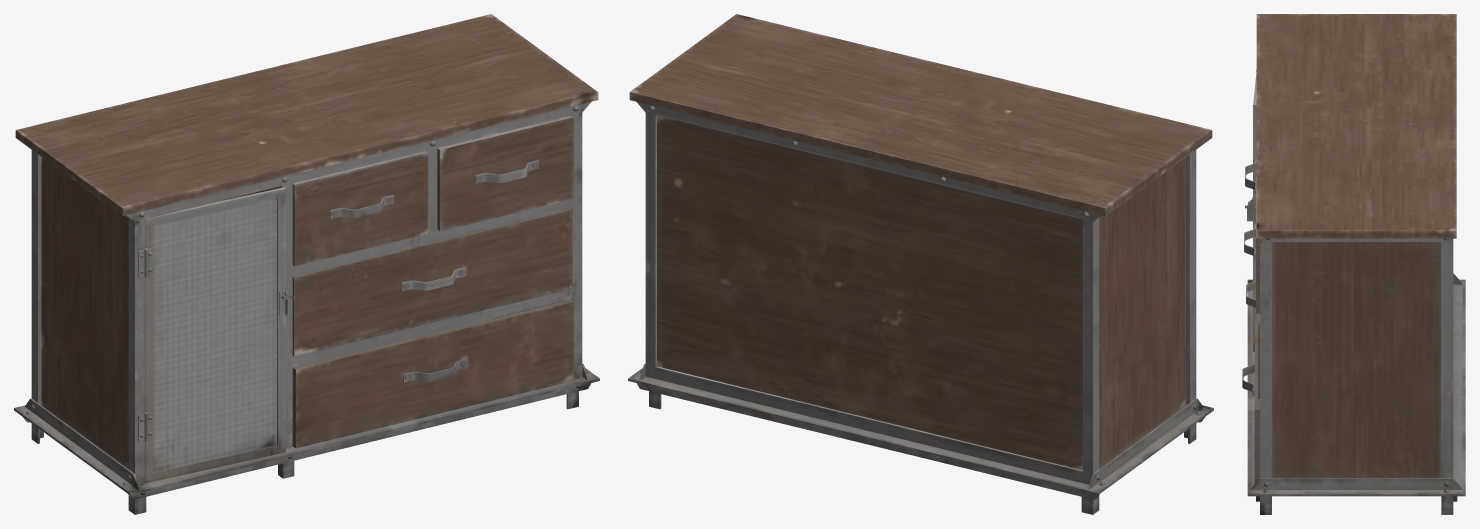
Rendered from workbench.glb.
3 views of the same model, side by side, from view 1: azimuth 30°, elevation 25°; view 2: azimuth 150°, elevation 25°; view 3: azimuth 270°, elevation 25° (orthographic). The views are drawn at different scales.
Visible parts, largest first — view 1: WoodenTable_03_body, WoodenTable_03_door, WoodenTable_03_drawer04, WoodenTable_03_drawer03, WoodenTable_03_drawer02, WoodenTable_03_drawer01; view 2: WoodenTable_03_body; view 3: WoodenTable_03_body, WoodenTable_03_drawer04, WoodenTable_03_door, WoodenTable_03_drawer02, WoodenTable_03_drawer03.
Part boxes in pixels (left/top/right/bottom): WoodenTable_03_body: left=14, top=14, right=599, bottom=514; WoodenTable_03_door: left=144, top=187, right=293, bottom=483; WoodenTable_03_drawer04: left=292, top=299, right=574, bottom=448; WoodenTable_03_drawer03: left=292, top=209, right=572, bottom=356; WoodenTable_03_drawer02: left=437, top=115, right=573, bottom=231; WoodenTable_03_drawer01: left=292, top=151, right=428, bottom=266; WoodenTable_03_body: left=628, top=14, right=1213, bottom=514; WoodenTable_03_body: left=1247, top=14, right=1465, bottom=514; WoodenTable_03_drawer04: left=1242, top=289, right=1259, bottom=483; WoodenTable_03_door: left=1245, top=69, right=1256, bottom=351; WoodenTable_03_drawer02: left=1244, top=176, right=1259, bottom=313; WoodenTable_03_drawer03: left=1246, top=281, right=1259, bottom=398.
Bounding box in the file's own units: 1.33 × 0.83 × 0.5753.
1 material, 1 textured.
